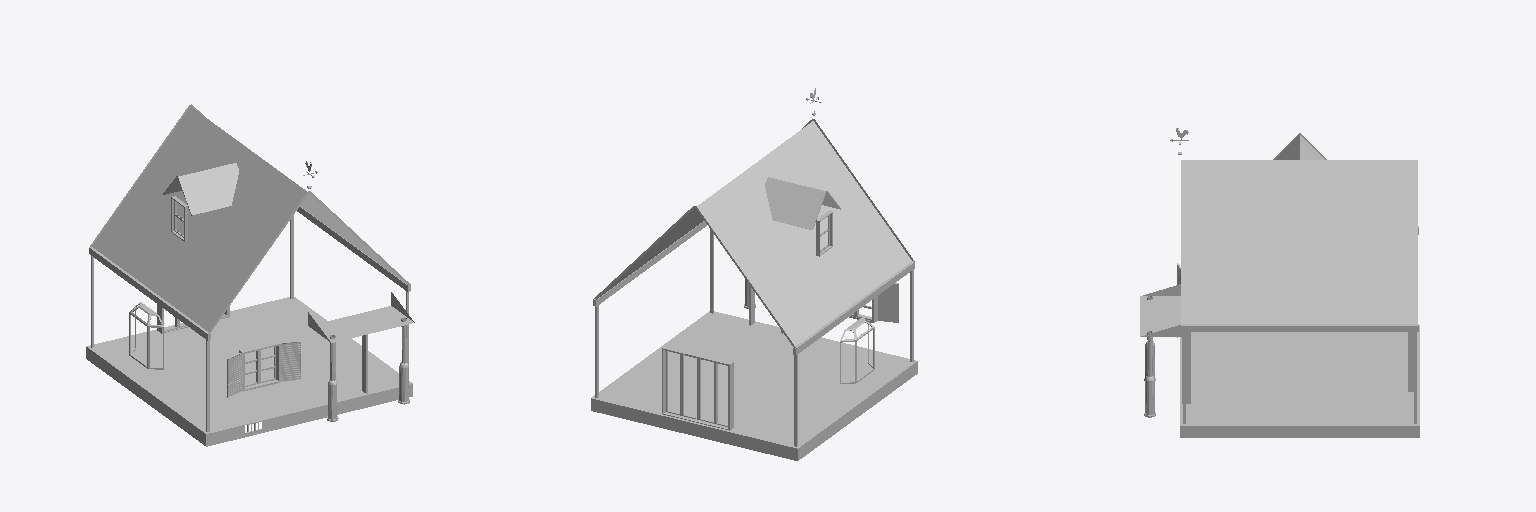
Rendered from Main_Frame.obj.
3 renders of one model, left to right at view 1: azimuth 30°, elevation 25°; view 2: azimuth 150°, elevation 25°; view 3: azimuth 270°, elevation 25°, orthographic.
Parts seen in each view (by area): view 1: House.005; view 2: House.005; view 3: House.005.
Part boxes in pixels (x1,y1,x2,y2): House.005: (86,104,414,446); House.005: (591,88,917,460); House.005: (1140,128,1419,437).
Bounding box in the file's own units: 2.34 × 2.71 × 2.64.